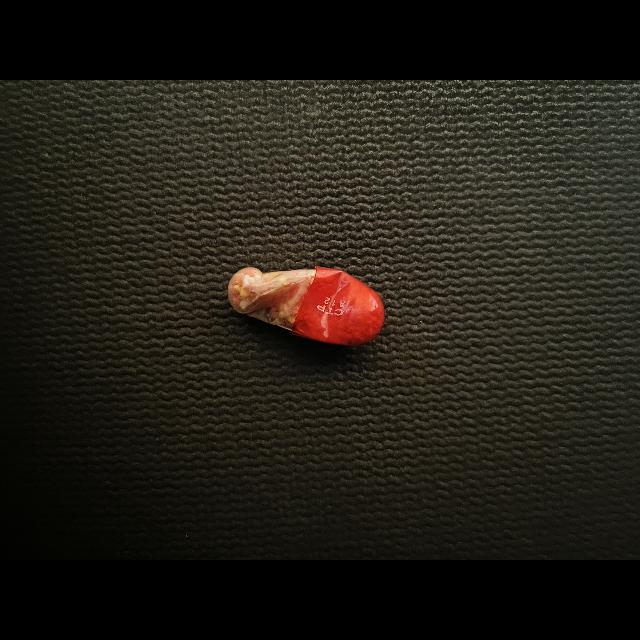Defective Capsule: (228, 266, 385, 346)
